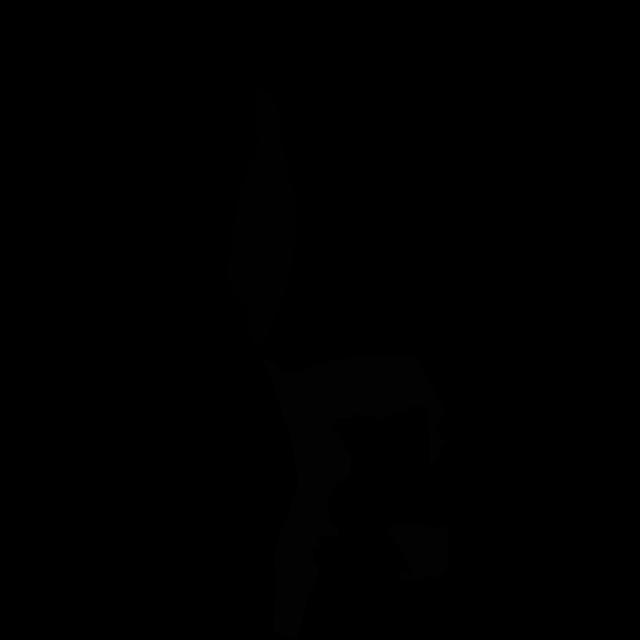cardboard: (261, 355, 450, 639), (386, 519, 449, 581)
rigid_plastic: (226, 86, 294, 345)
